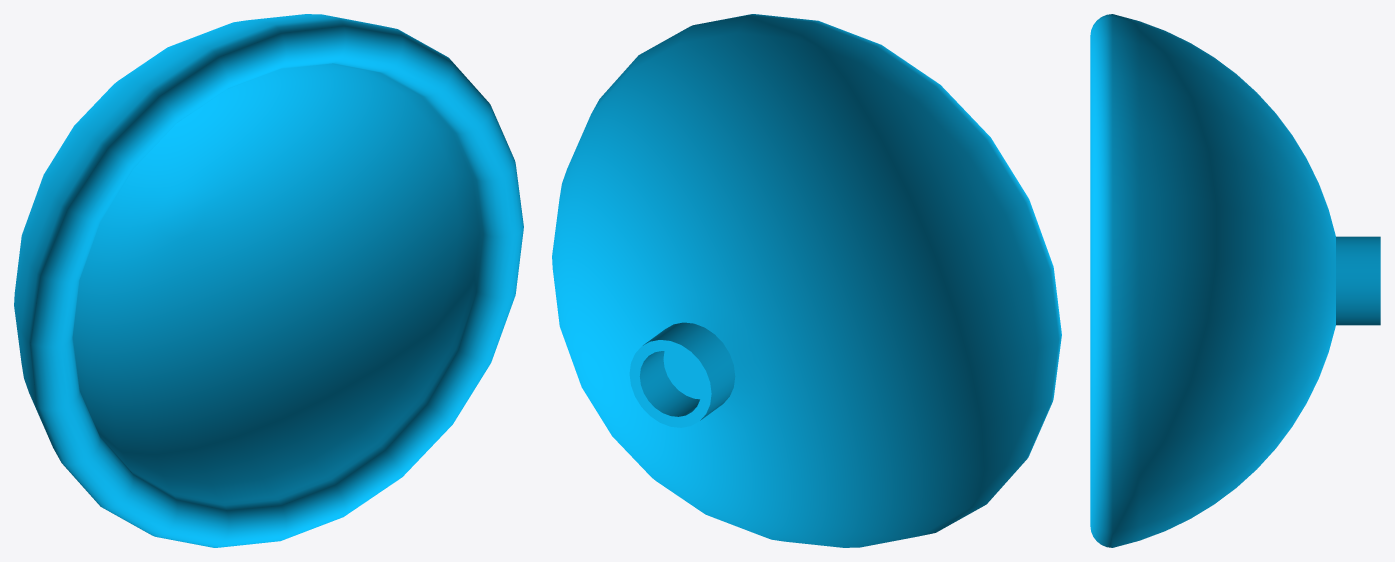
File: model_scale.obj
3 views of the same model, side by side, from view 1: azimuth 30°, elevation 25°; view 2: azimuth 150°, elevation 25°; view 3: azimuth 270°, elevation 25° (orthographic). The views are drawn at different scales.
Visible parts, largest first — view 1: mesh1_mesh1-geometry; view 2: mesh1_mesh1-geometry; view 3: mesh1_mesh1-geometry.
Boxes of the visible parts, <box> form: mesh1_mesh1-geometry: <box>14,14,523,547</box>; mesh1_mesh1-geometry: <box>552,14,1061,547</box>; mesh1_mesh1-geometry: <box>1090,14,1380,547</box>.
Bounding box in the file's own units: 0.1382 × 0.1382 × 0.0749.
